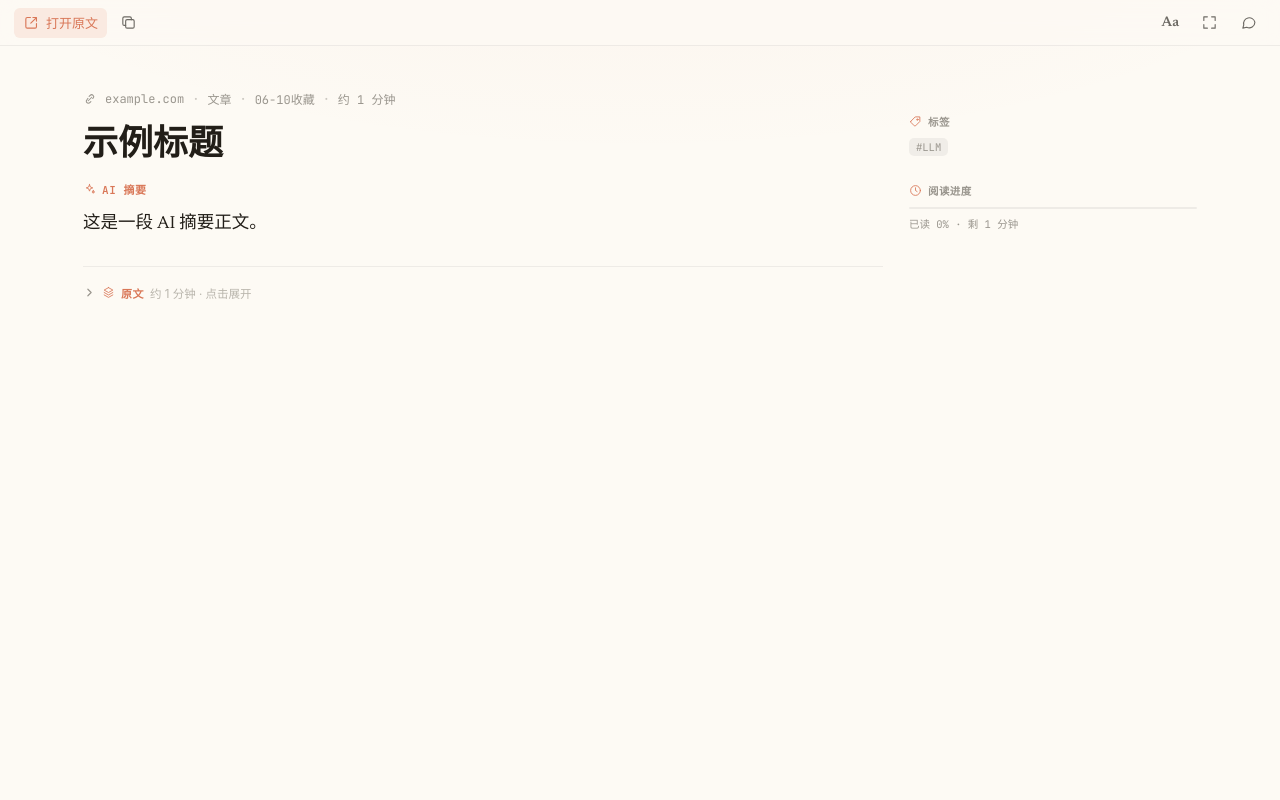
Test: DetailPane 正文目录 › 切到纯文本视图后目录消失，切回排版又回来
Click the button "原文 约 1 分钟 · 点击展开" at (167,293), box [83,285,252,301]
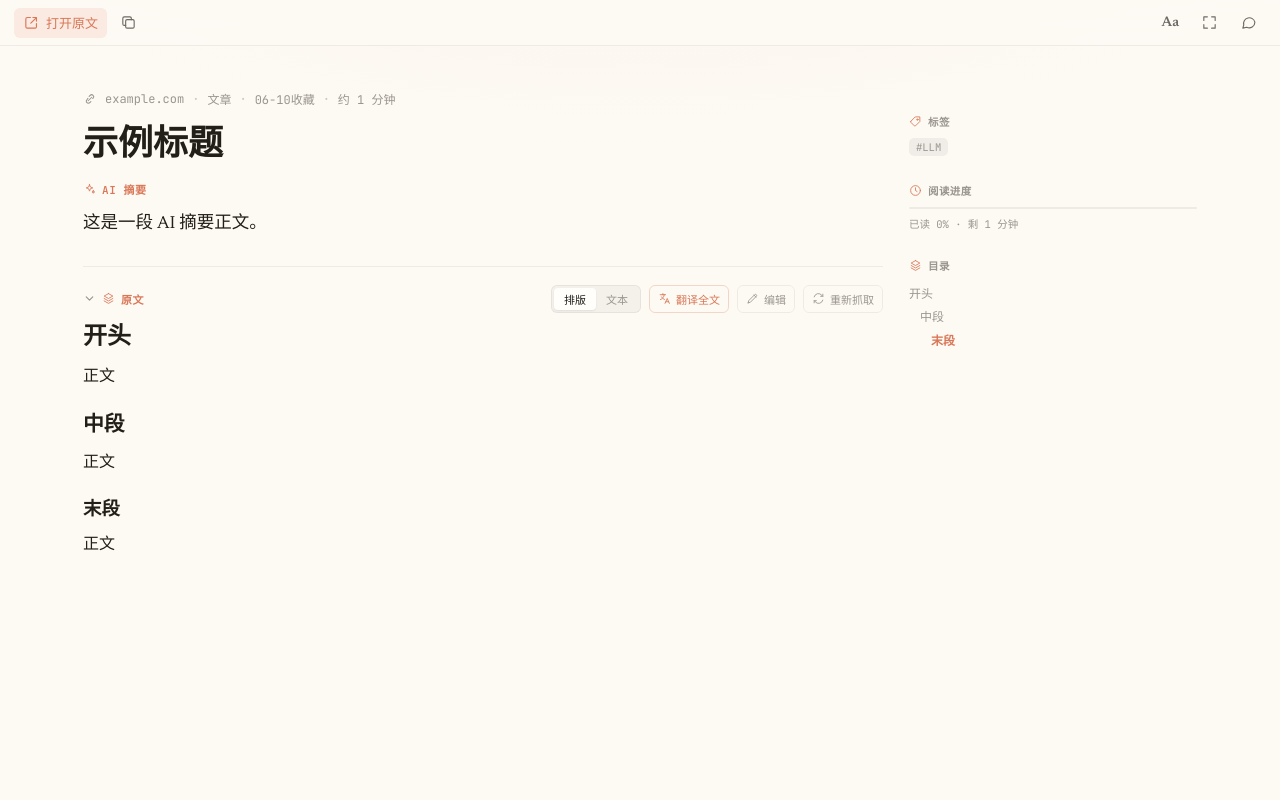
Result: the navigation bar named "正文目录" is shown at [909,282,1197,352]
Click the button "文本" at (617,299), box [596,288,638,310]
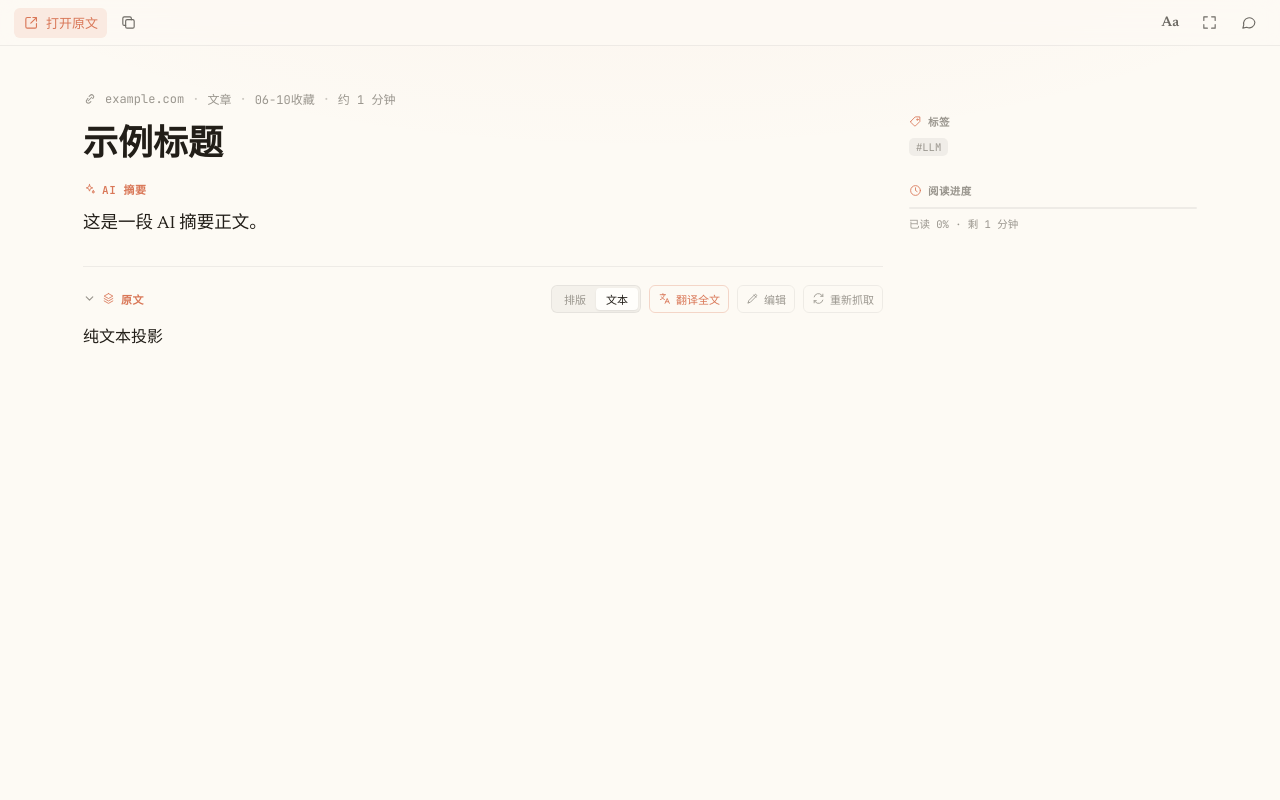
Result: the navigation bar "正文目录" is gone
Click the button "排版" at (575,299), box [554,288,596,310]
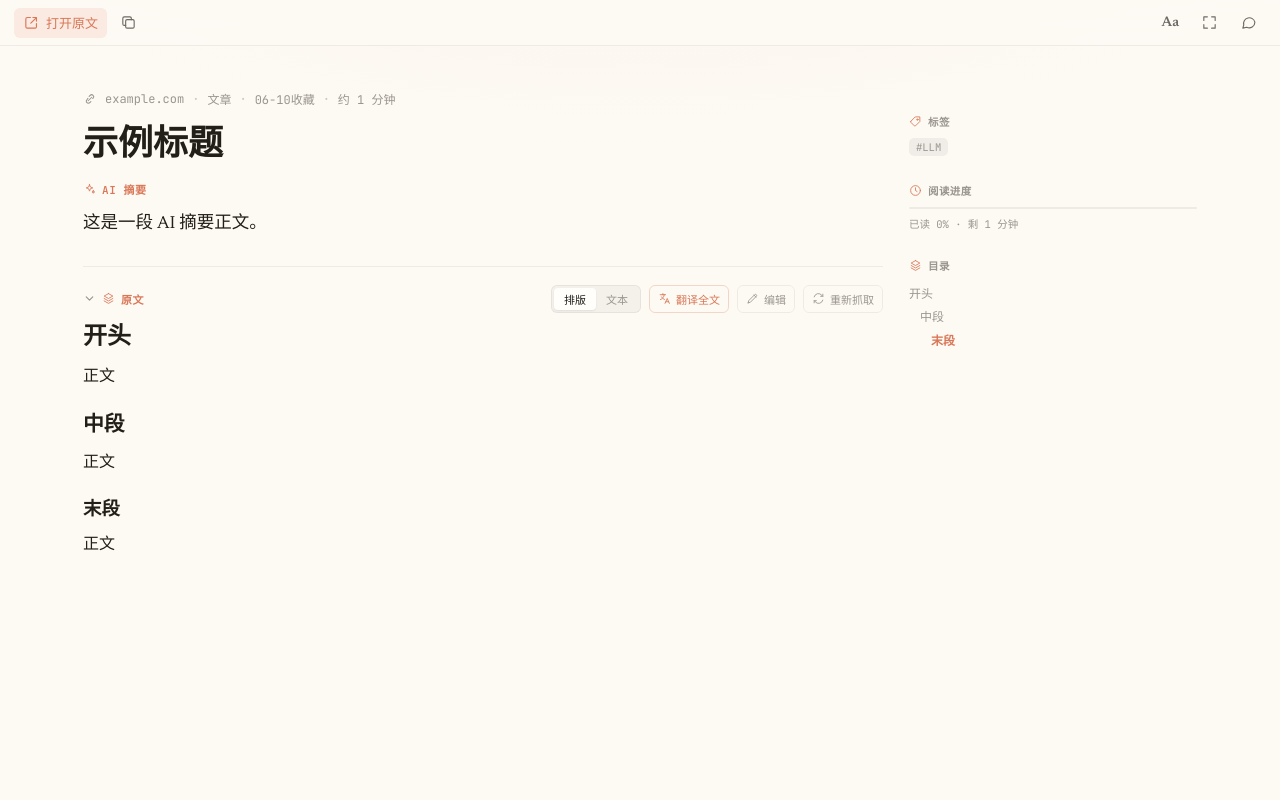
Result: the navigation bar named "正文目录" is shown at [909,282,1197,352]
